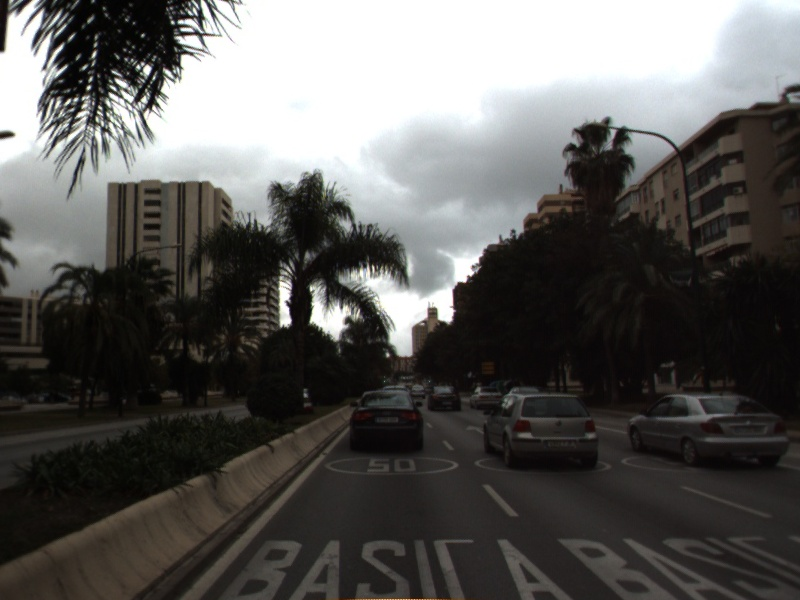STRAIGHT: (464, 422, 486, 435)
